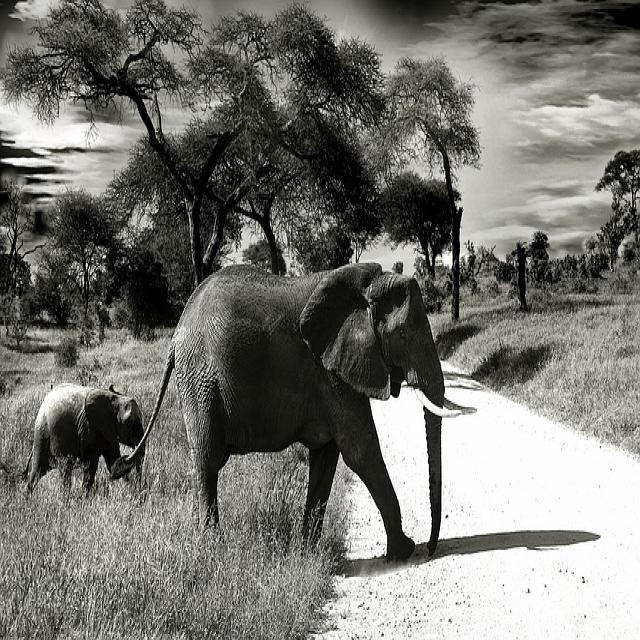elephant: (170, 264, 459, 565), (29, 386, 147, 496)
